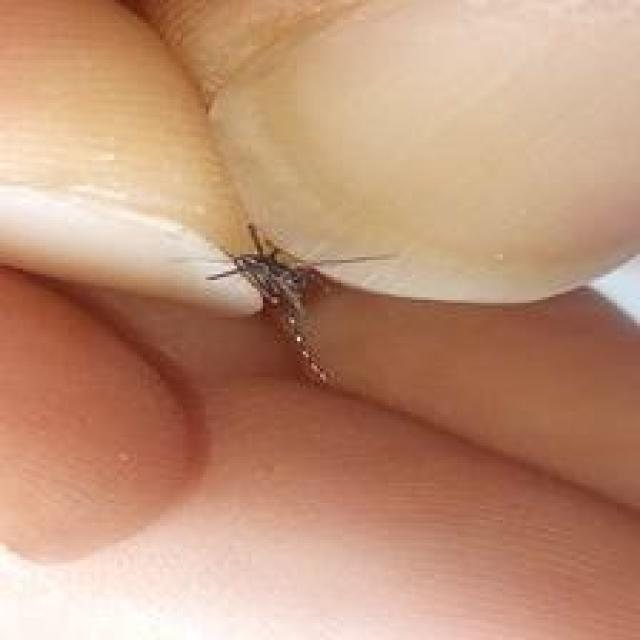Aedes albopictus: (203, 220, 397, 389)
